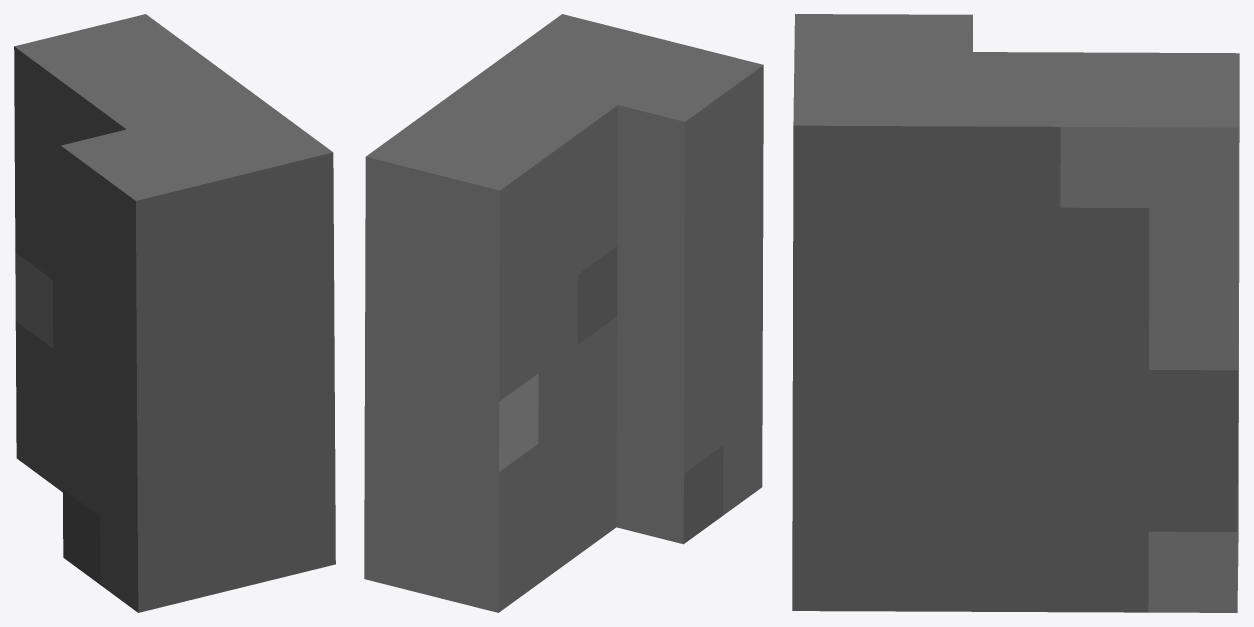
Rendered from L_Arm_MercenaryArmor.glb.
3 renders of one model, left to right at view 1: azimuth 30°, elevation 25°; view 2: azimuth 150°, elevation 25°; view 3: azimuth 270°, elevation 25°, orthographic. The views are drawn at different scales.
Visible parts, largest first — view 1: L_Arm_MercenaryArmor.001; view 2: L_Arm_MercenaryArmor.001; view 3: L_Arm_MercenaryArmor.001.
Boxes of the visible parts, x1=… form: L_Arm_MercenaryArmor.001: x1=14, y1=14, x2=335, y2=612; L_Arm_MercenaryArmor.001: x1=364, y1=14, x2=763, y2=612; L_Arm_MercenaryArmor.001: x1=792, y1=14, x2=1239, y2=612.
Size of the model in its own units: 19.12 by 37.63 by 31.4.
1 material, 1 textured.
